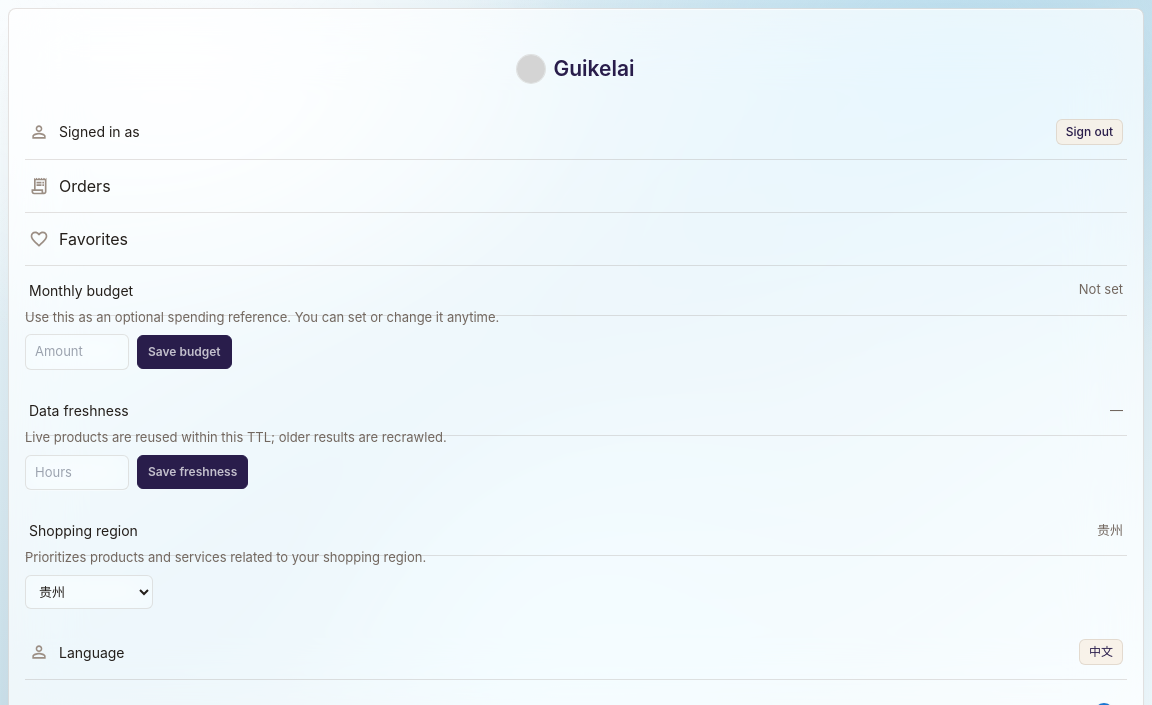
Scenario: Me page safety toggle › loads and saves the optional monthly budget
Expected: the text "Not set" is shown, top-left (1079, 280), bottom-right (1123, 300)
Type "75" into the number field named "Monthly budget".
click(77, 352); type("75")  # box top-left (25, 334), bottom-right (129, 370)
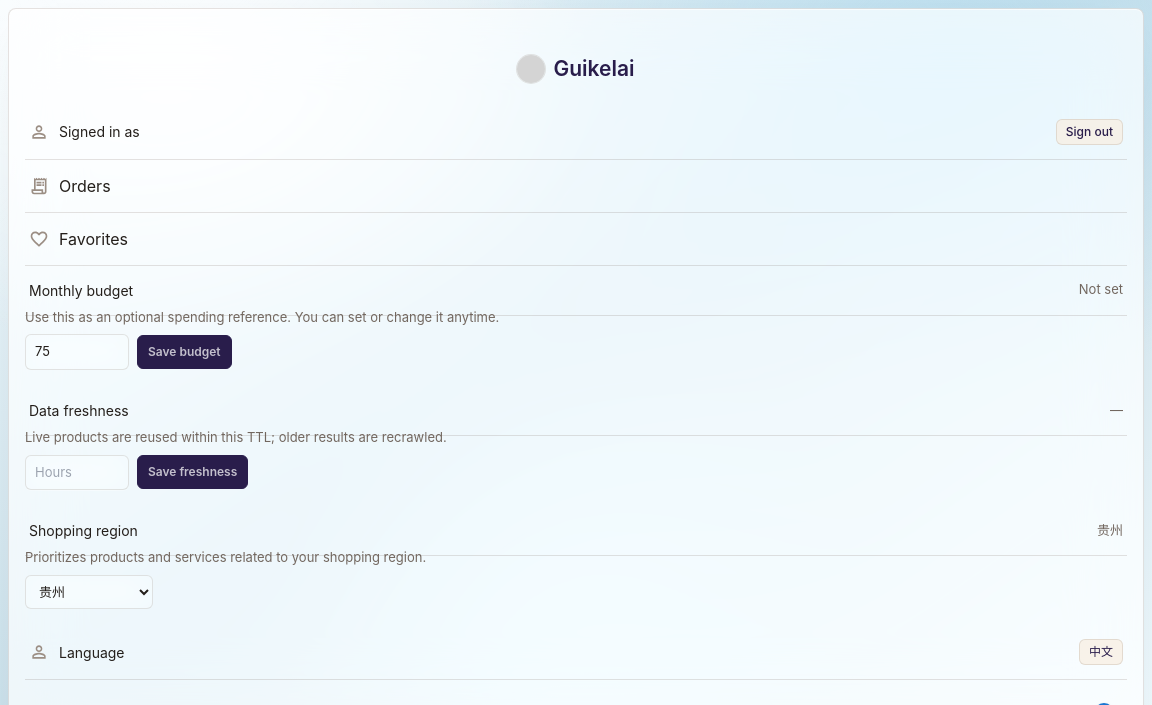
Click the button "Save budget".
click(184, 352)  # box top-left (137, 335), bottom-right (232, 369)
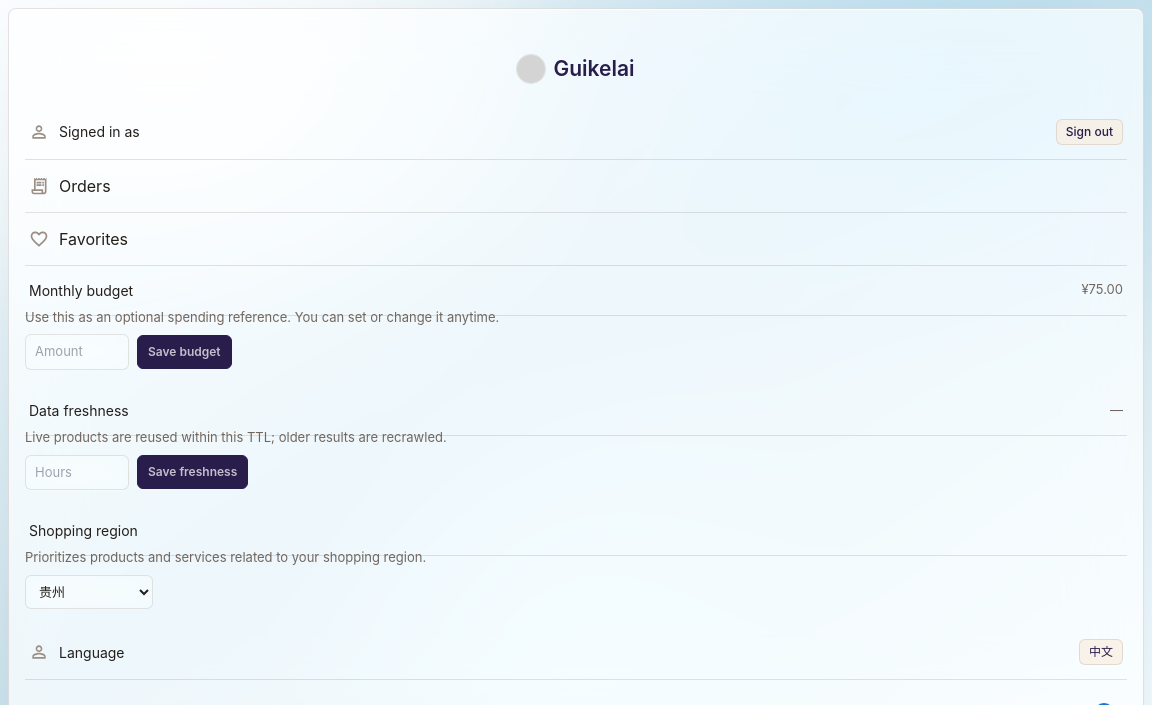
Expected: the text "¥75.00" is shown, top-left (1081, 280), bottom-right (1123, 300)
